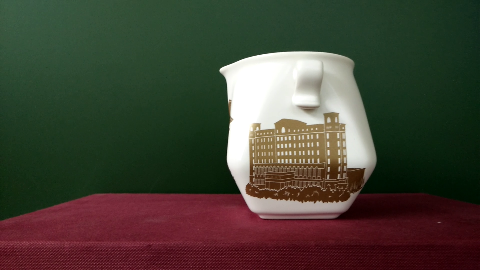law: (253, 131, 354, 195)
